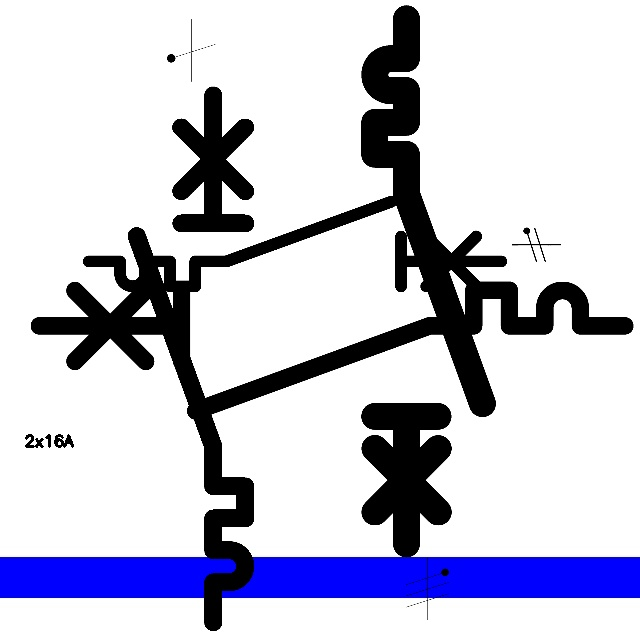interruptor_termomagnetico: (24, 275, 640, 426), (123, 81, 259, 635), (361, 5, 496, 557), (78, 191, 511, 297)
